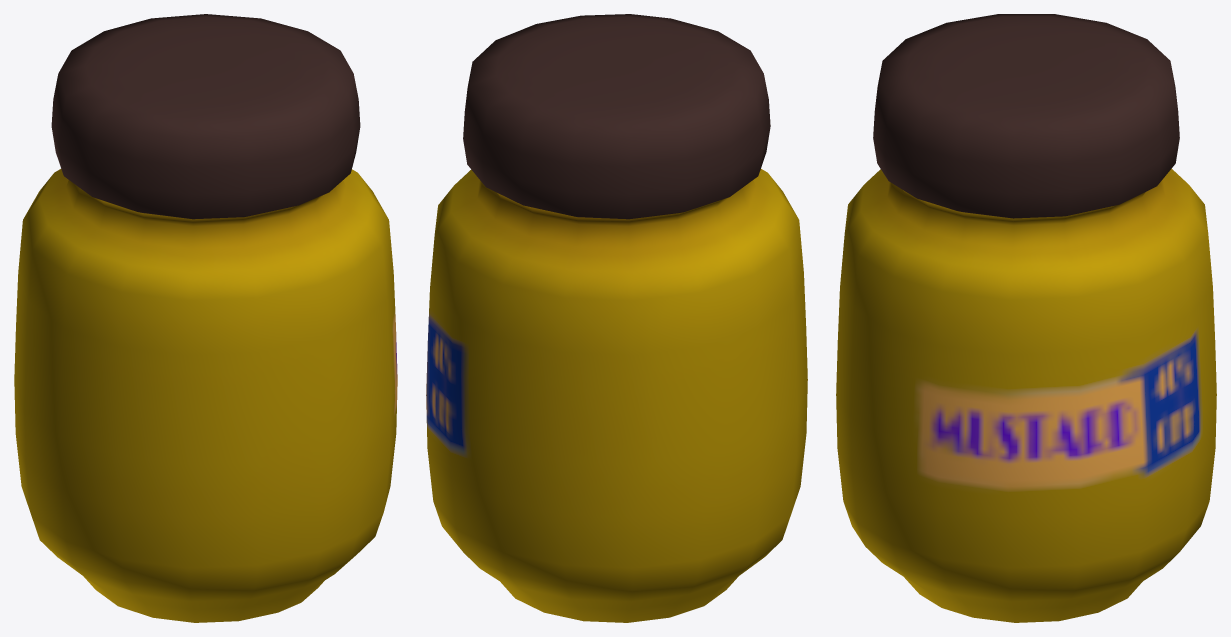
The model's file is Mustard Glass Container.fbx.
3 views of the same model, side by side, from view 1: azimuth 30°, elevation 25°; view 2: azimuth 150°, elevation 25°; view 3: azimuth 270°, elevation 25° (orthographic).
Visible parts, largest first — view 1: Mustard_Glass_Container; view 2: Mustard_Glass_Container; view 3: Mustard_Glass_Container.
Boxes of the visible parts, x1=… form: Mustard_Glass_Container: x1=14, y1=14, x2=397, y2=622; Mustard_Glass_Container: x1=426, y1=14, x2=807, y2=622; Mustard_Glass_Container: x1=836, y1=14, x2=1216, y2=622.
Size of the model in its own units: 12.1 by 18.22 by 12.11.
Materials: 1 (1 with a texture image).
